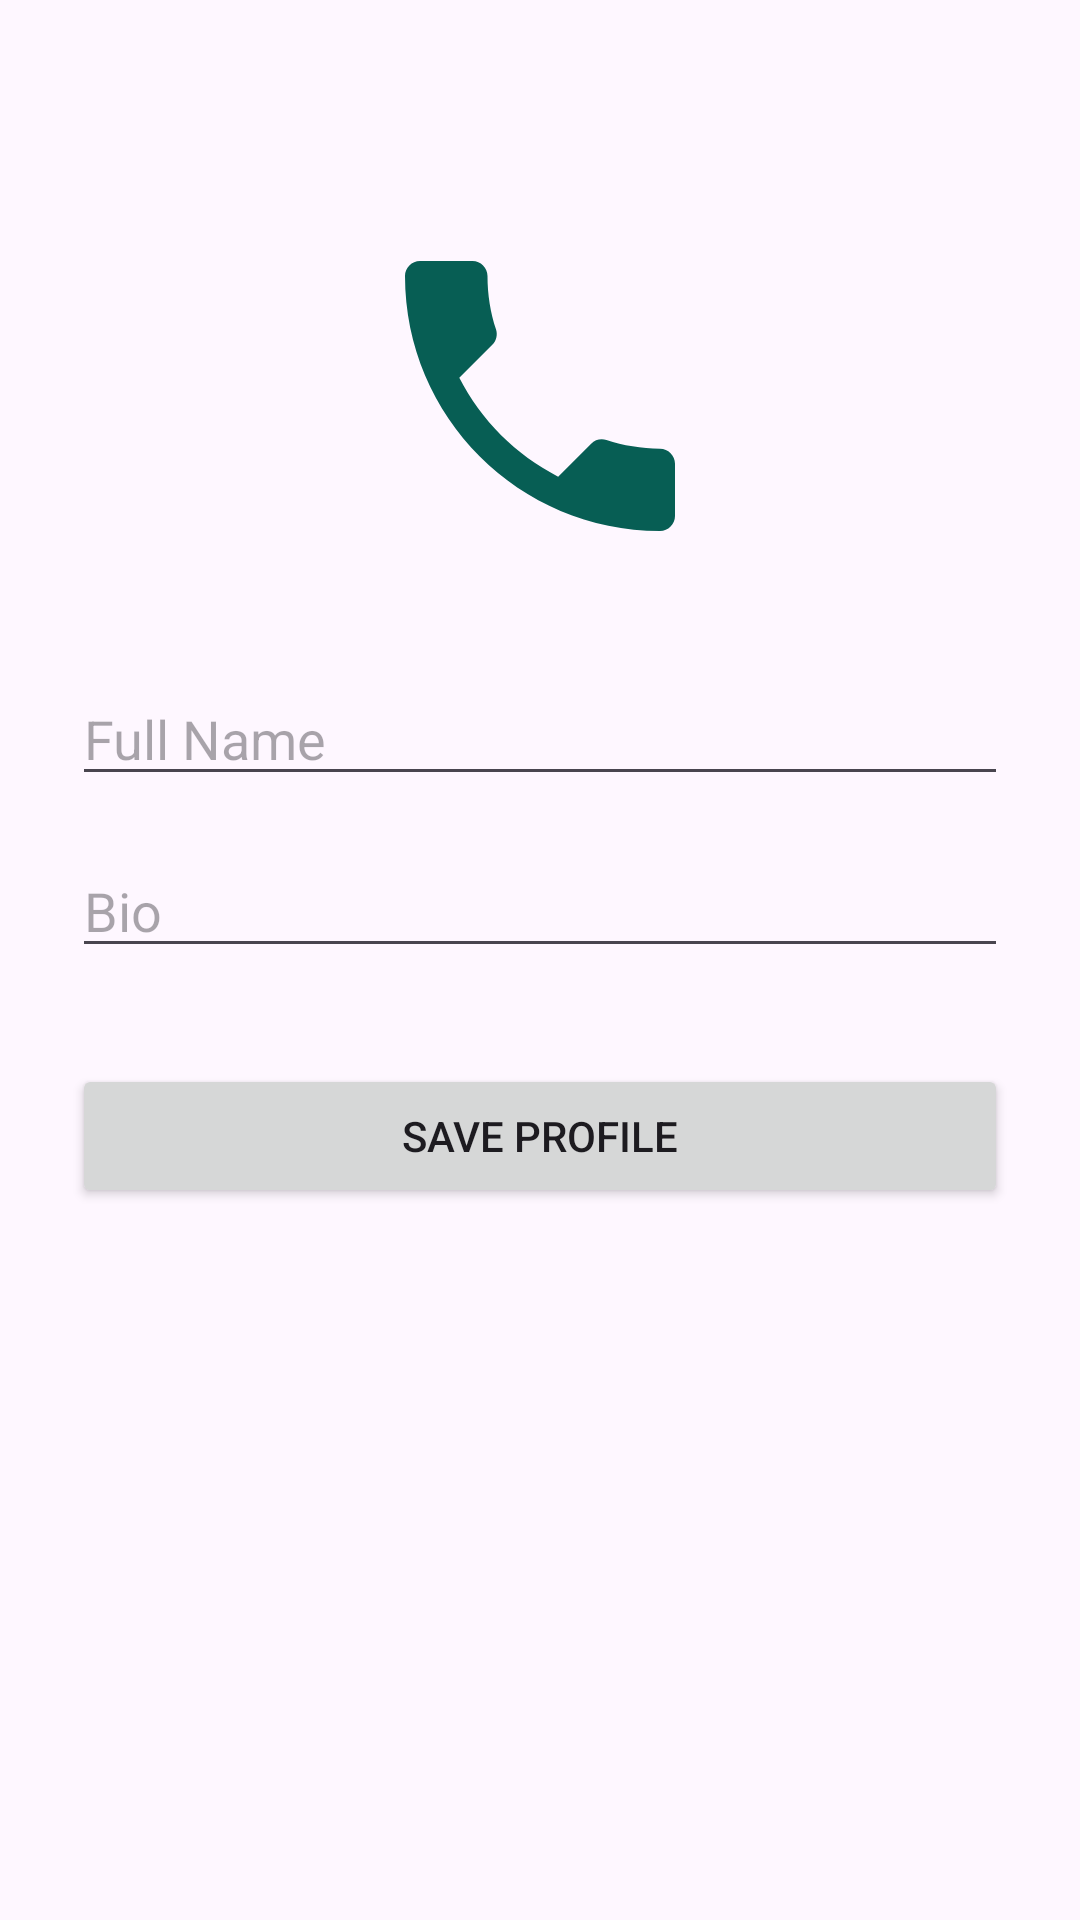

Icons on this 1080 x 1920 Android screen, each with its box as (x1, y1, x2, y2):
calls: (405, 261, 675, 531)
